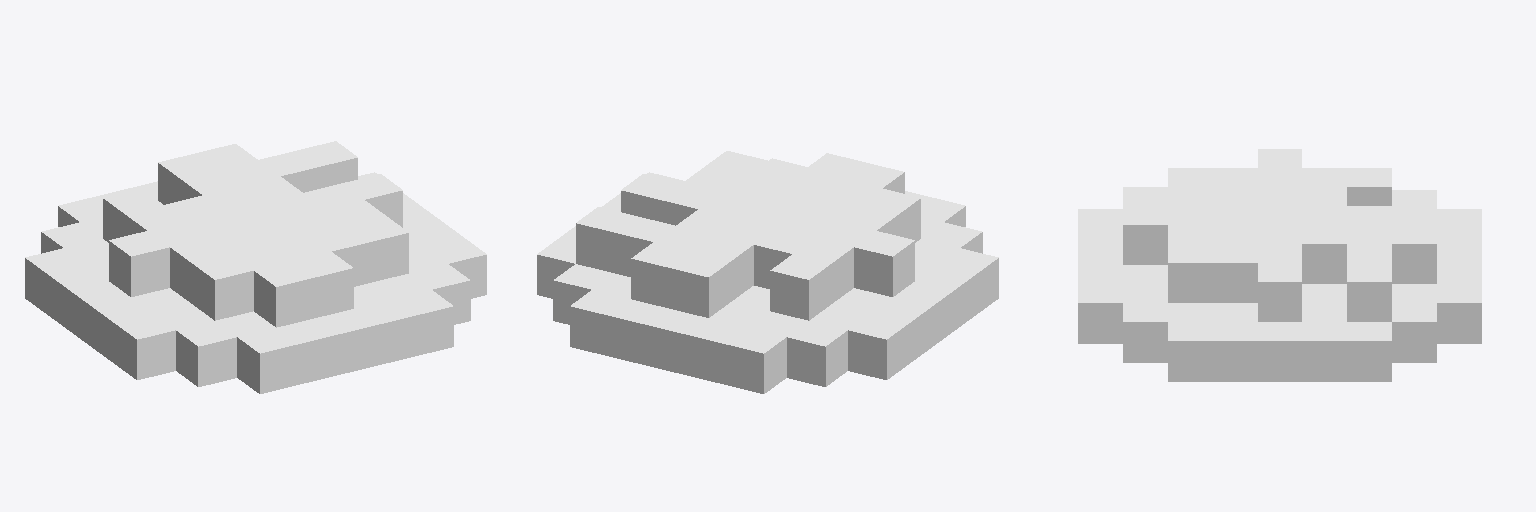
Rendered from LifeObject2.obj.
The picture shows the model from 3 angles: view 1: azimuth 30°, elevation 25°; view 2: azimuth 150°, elevation 25°; view 3: azimuth 270°, elevation 25°; orthographic projection.
Visible parts, largest first — view 1: ObjObject.008; view 2: ObjObject.008; view 3: ObjObject.008.
Part boxes in pixels (x1,y1,x2,y2): ObjObject.008: (25,141,486,393); ObjObject.008: (537,151,998,393); ObjObject.008: (1078,149,1481,381).
Bounding box in the file's own units: 0.9 × 0.2 × 0.9.